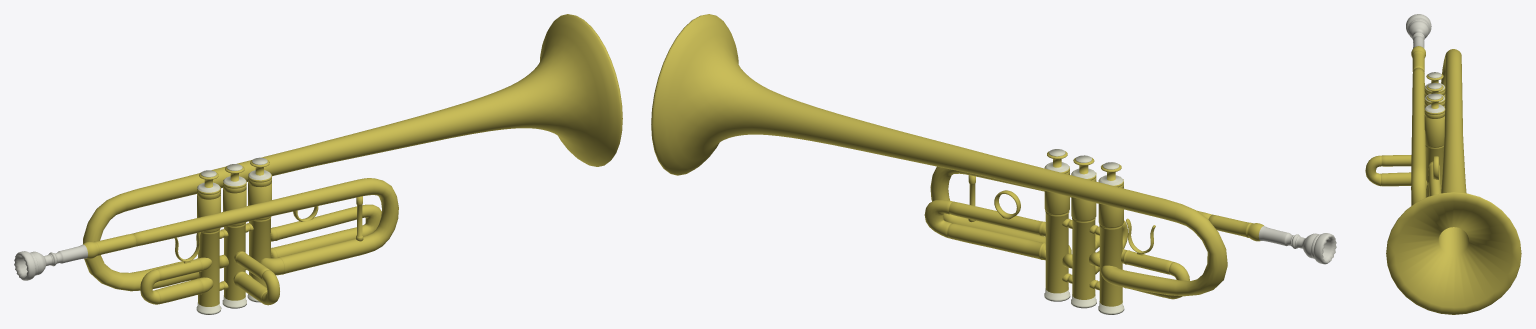
Rendered from trumpet.fbx.
3 views of the same model, side by side, from view 1: azimuth 30°, elevation 25°; view 2: azimuth 150°, elevation 25°; view 3: azimuth 270°, elevation 25° (orthographic). The views are drawn at different scales.
Parts seen in each view (by area): view 1: Trumpet, Valves; view 2: Trumpet, Valves; view 3: Trumpet, Valves, 3rd_valve_slide_ring.
Boxes of the visible parts, left/top/right/bottom form: Trumpet: left=14, top=14, right=622, bottom=305; Valves: left=196, top=157, right=271, bottom=314; Trumpet: left=651, top=14, right=1336, bottom=299; Valves: left=1044, top=149, right=1124, bottom=314; Trumpet: left=1365, top=14, right=1521, bottom=314; Valves: left=1424, top=72, right=1445, bottom=197; 3rd_valve_slide_ring: left=1433, top=156, right=1438, bottom=179.
Bounding box in the file's own units: 19.52 × 6.01 × 5.22.
